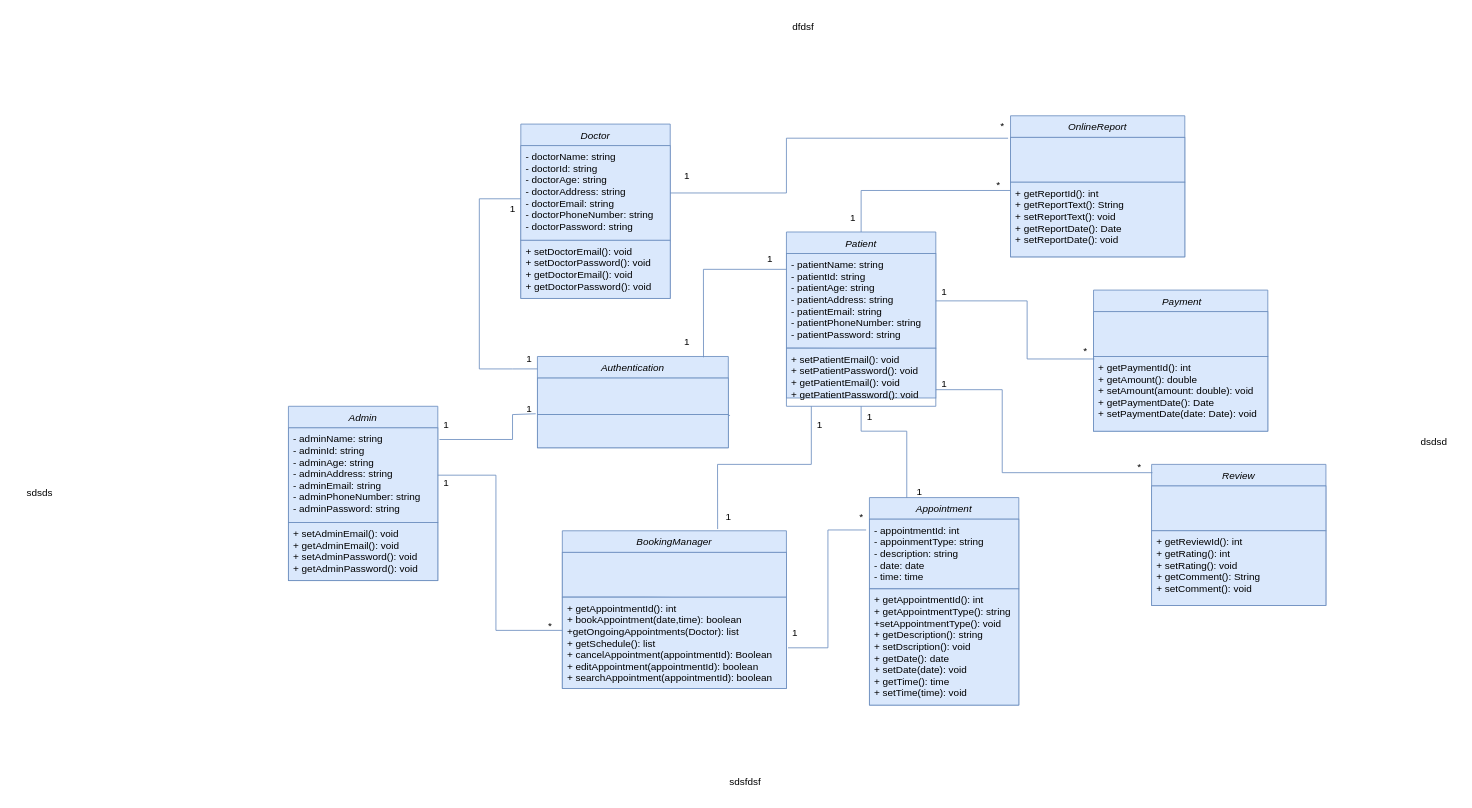
Some shapes in this 1472 by 808 pixel diagram are drawn without their labels. The centre of each missing label's shape, as x and y in pixels:
+ login(userName,Passward): boolean + logout(): void: point 632,431
- appointmentId: int - date: date - time: time: point 673,574
- paymentId: int -amount: double - paymentDate: Date: point 1180,333
- reportId: int - reportText: string - reportdate: Date: point 1097,159
- reviewId: int - rating: int - comment: String: point 1238,508
- username: string - password: string: point 632,396
